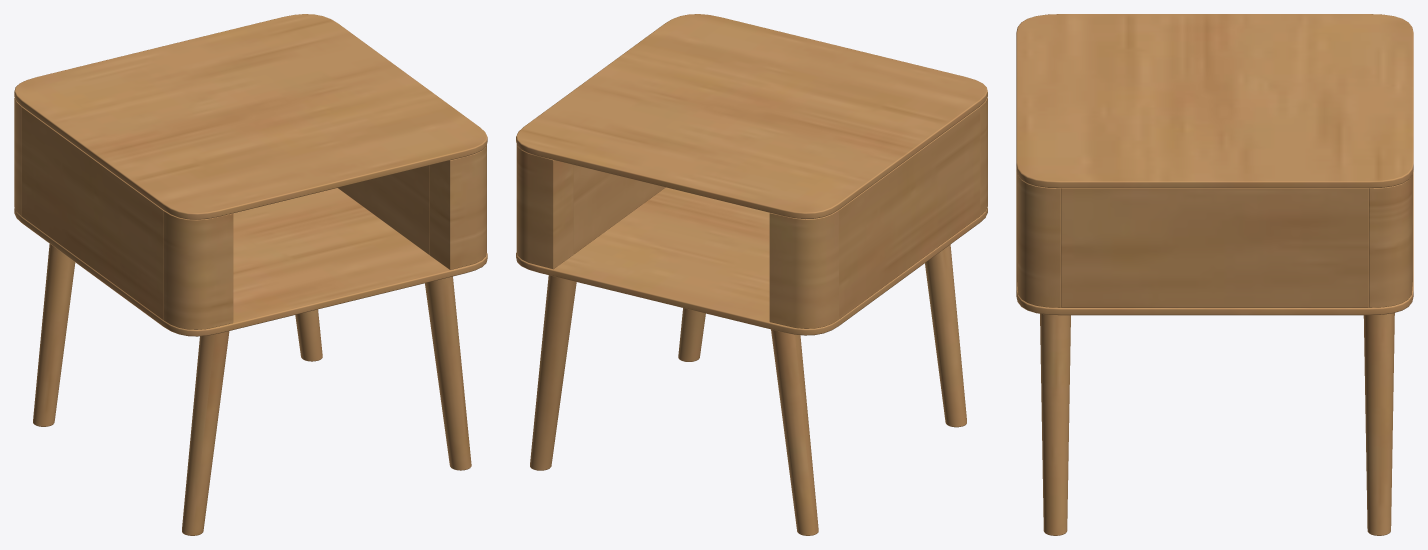
Rendered from stand_wood.glb.
3 renders of one model, left to right at view 1: azimuth 30°, elevation 25°; view 2: azimuth 150°, elevation 25°; view 3: azimuth 270°, elevation 25°, orthographic. The views are drawn at different scales.
Visible parts, largest first — view 1: end_table_end_table_0; view 2: end_table_end_table_0; view 3: end_table_end_table_0.
Part boxes in pixels (<box>): end_table_end_table_0: <box>14,14,487,535</box>; end_table_end_table_0: <box>516,14,987,535</box>; end_table_end_table_0: <box>1016,14,1413,535</box>.
Size of the model in its own units: 0.4987 by 0.5 by 0.4987.
Materials: 1 (1 with a texture image).
